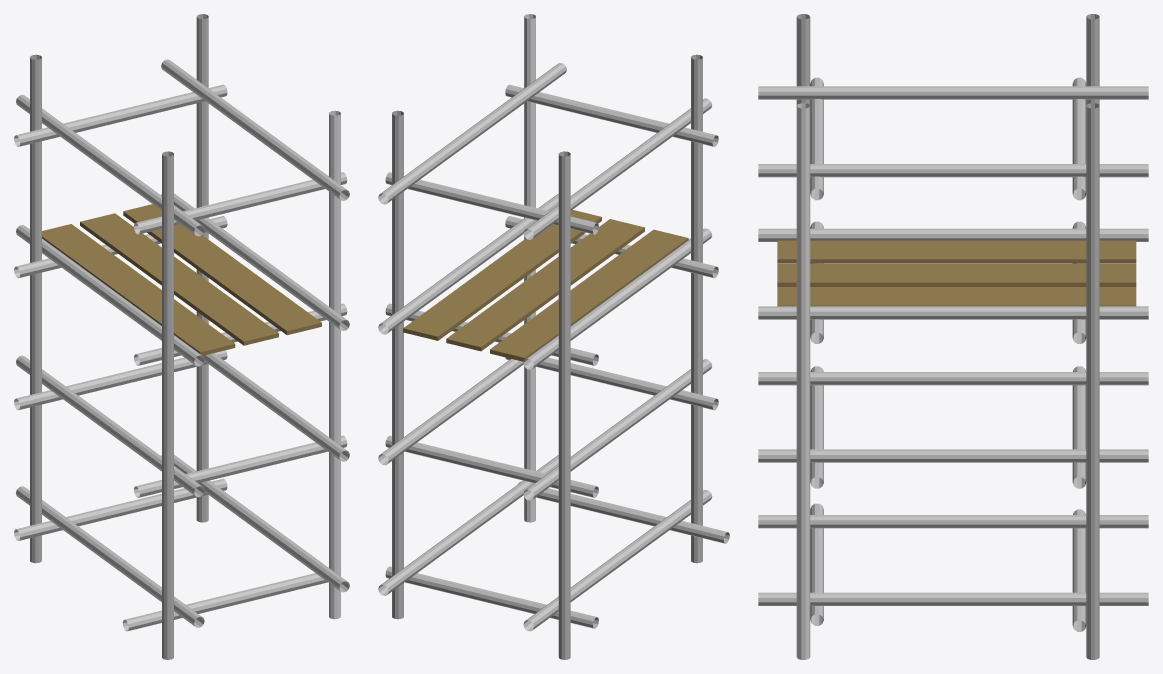
The model's file is scaffolding8.fbx.
The picture shows the model from 3 angles, left to right: view 1: azimuth 30°, elevation 25°; view 2: azimuth 150°, elevation 25°; view 3: azimuth 270°, elevation 25°; orthographic projection. The views are drawn at different scales.
Visible parts, largest first — view 1: pCylinder48, pCube60, pCube55, pCube59, pCylinder87, pCylinder36, pCylinder47, pCylinder74, pCylinder81, pCylinder37, pCylinder41, pCylinder92 (+11 smaller); view 2: pCylinder87, pCube60, pCube55, pCube59, pCylinder48, pCylinder47, pCylinder36, pCylinder74, pCylinder52, pCylinder41, pCylinder92, pCylinder81 (+11 smaller); view 3: pCylinder36, pCube55, pCylinder47, pCube60, pCube59, pCylinder81, pCylinder52, pCylinder42, pCylinder92, pCylinder83, pCylinder41, pCylinder74 (+9 smaller).
Boxes of the visible parts, x1,y1,x2,y2 form: pCylinder48: (162,151,173,659); pCube60: (80,213,278,345); pCube55: (42,224,235,355); pCube59: (123,204,321,335); pCylinder87: (30,54,41,563); pCylinder36: (329,110,340,619); pCylinder47: (196,14,208,522); pCylinder74: (161,59,349,200); pCylinder81: (16,94,204,236); pCylinder37: (16,225,204,366); pCylinder41: (16,486,204,627); pCylinder92: (16,355,204,497); pCylinder87: (558,151,570,659); pCube60: (446,219,644,351); pCube55: (490,229,688,361); pCube59: (403,209,601,340); pCylinder48: (691,54,702,563); pCylinder47: (392,110,403,619); pCylinder36: (524,14,535,522); pCylinder74: (378,63,566,204); pCylinder52: (378,194,558,334); pCylinder41: (523,489,712,631); pCylinder92: (523,359,711,500); pCylinder81: (523,98,712,239); pCylinder36: (796,103,810,659); pCube55: (777,240,1136,263); pCylinder47: (1086,103,1099,659); pCube60: (777,264,1136,286); pCube59: (777,287,1136,306); pCylinder81: (758,86,1148,99); pCylinder52: (758,306,1148,319); pCylinder42: (758,449,1148,462); pCylinder92: (758,372,1148,385); pCylinder83: (758,592,1148,605); pCylinder41: (758,515,1148,528); pCylinder74: (758,164,1148,177).
Bounding box in the file's own units: 10.43 × 22.96 × 14.74.
